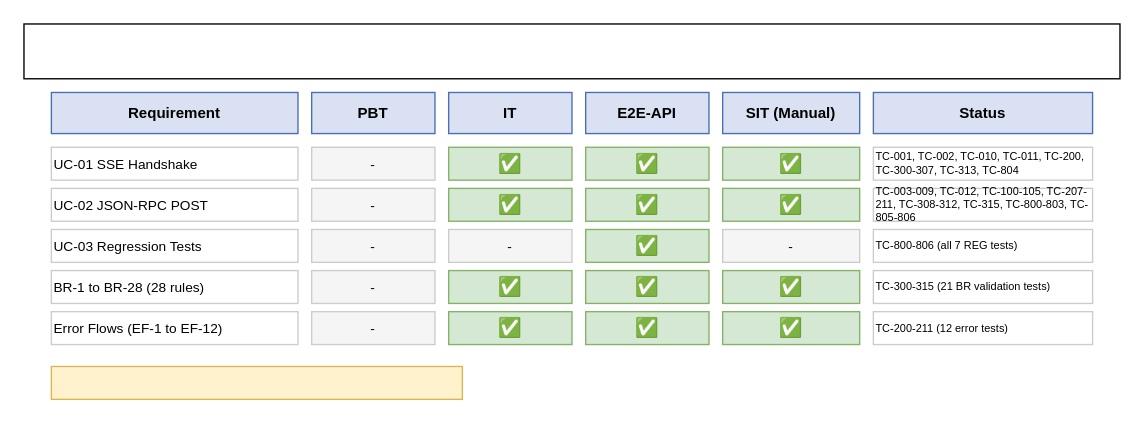
This 1144x423 diagram has some shape labels left out. The shapes that lost their labels are listed below. From the top down, each one's box as (x1, y1, x2, y2) in pixels, then its label:
(23, 23, 1120, 79): Test Coverage Overview — SA4E-48
(50, 365, 462, 399): ✅ Covered - Not Applicable
